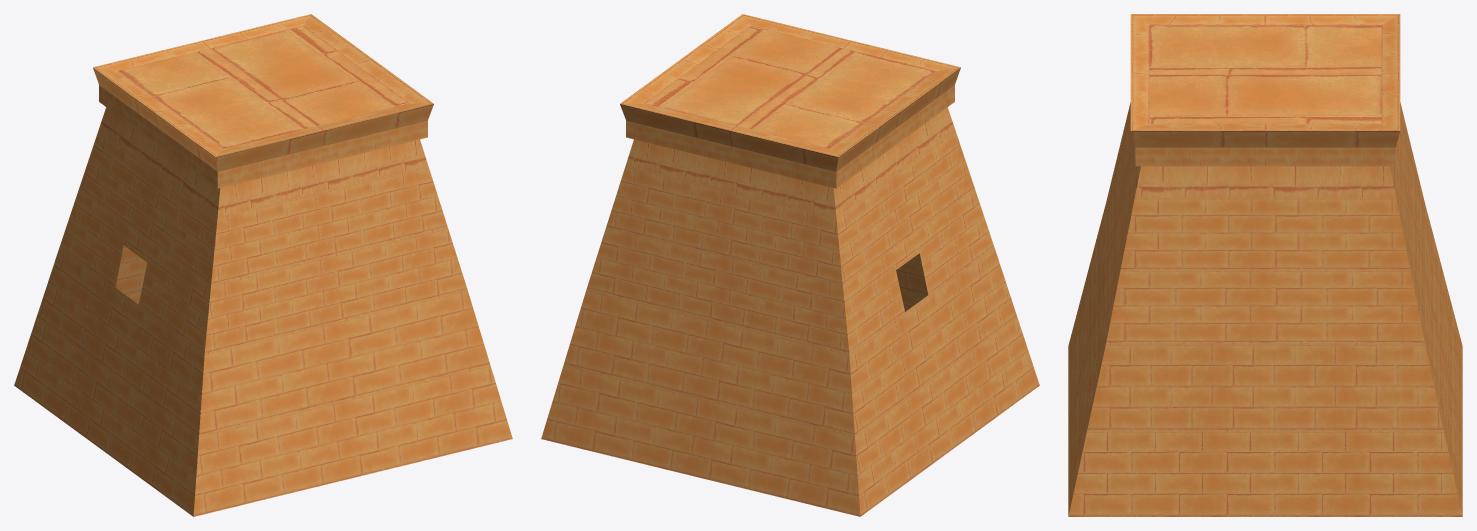
Rendered from temple-floor04-art.glb.
3 views of the same model, side by side, from view 1: azimuth 30°, elevation 25°; view 2: azimuth 150°, elevation 25°; view 3: azimuth 270°, elevation 25° (orthographic). The views are drawn at different scales.
Visible parts, largest first — view 1: TempleFloor04_Art; view 2: TempleFloor04_Art; view 3: TempleFloor04_Art.
Part boxes in pixels (bbox=[...]): TempleFloor04_Art: bbox=[14, 14, 512, 516]; TempleFloor04_Art: bbox=[541, 14, 1039, 516]; TempleFloor04_Art: bbox=[1068, 14, 1462, 516].
Bounding box in the file's own units: 37.03 × 36.21 × 36.04.
2 materials, 2 textured.
